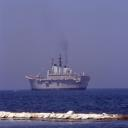Portanaves: (26, 53, 92, 93)
